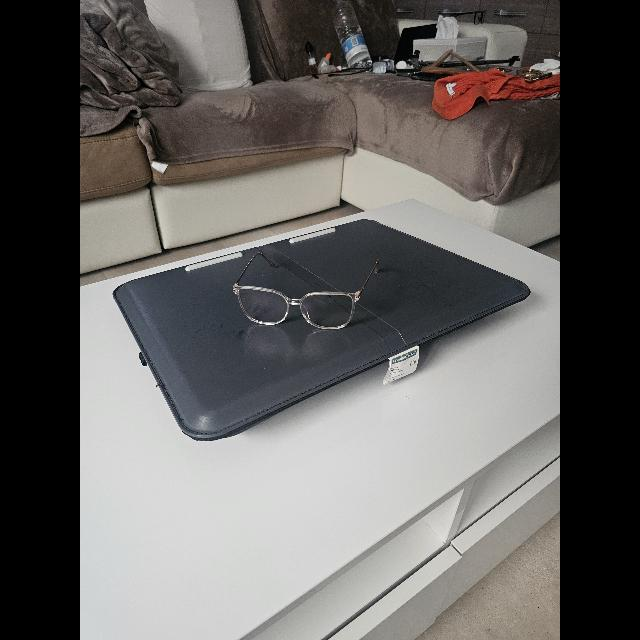glasses: (232, 251, 380, 329)
